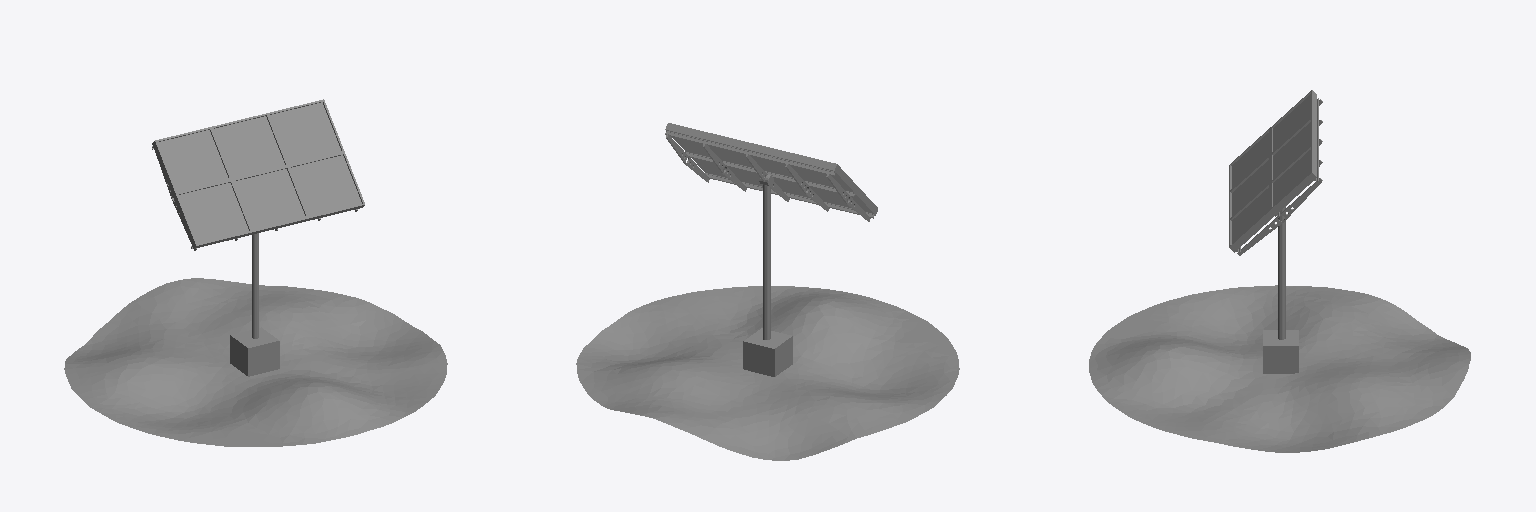
The model's file is jqqes7jxtcgw.obj.
The picture shows the model from 3 angles: view 1: azimuth 30°, elevation 25°; view 2: azimuth 150°, elevation 25°; view 3: azimuth 270°, elevation 25°; orthographic projection.
Visible parts, largest first — view 1: Circle001, Panel, Box002, Cylinder002; view 2: Circle001, Panel, Box002, Cylinder002; view 3: Circle001, Panel, Box002, Cylinder002.
Part boxes in pixels (bbox=[...]): Circle001: bbox=[64, 278, 447, 446]; Panel: bbox=[152, 99, 364, 250]; Box002: bbox=[230, 327, 279, 376]; Cylinder002: bbox=[252, 233, 258, 338]; Circle001: bbox=[576, 286, 959, 460]; Panel: bbox=[665, 123, 877, 221]; Box002: bbox=[743, 328, 792, 376]; Cylinder002: bbox=[763, 185, 770, 339]; Circle001: bbox=[1089, 285, 1470, 452]; Panel: bbox=[1229, 90, 1322, 255]; Box002: bbox=[1263, 330, 1298, 373]; Cylinder002: bbox=[1278, 206, 1285, 339].
Bounding box in the file's own units: 984 × 703 × 980.